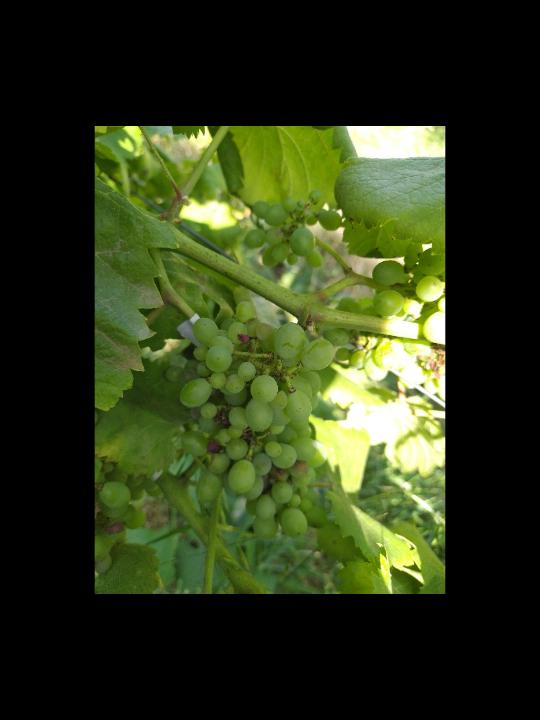grape: (162, 298, 356, 560), (245, 189, 344, 272)
